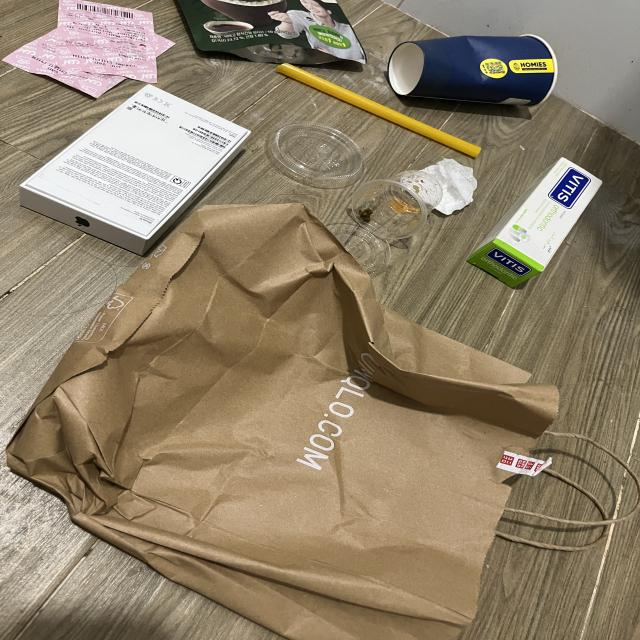bag: (10, 204, 640, 640)
cardboard box: (21, 84, 252, 255), (467, 155, 603, 287)
drinking straw: (276, 63, 482, 158)
lid: (270, 123, 364, 189), (327, 218, 391, 278)
napkin: (403, 158, 478, 216)
paper: (0, 0, 176, 98)
plastic glass: (388, 35, 558, 105), (352, 170, 442, 239)
snack package: (174, 0, 366, 65)
